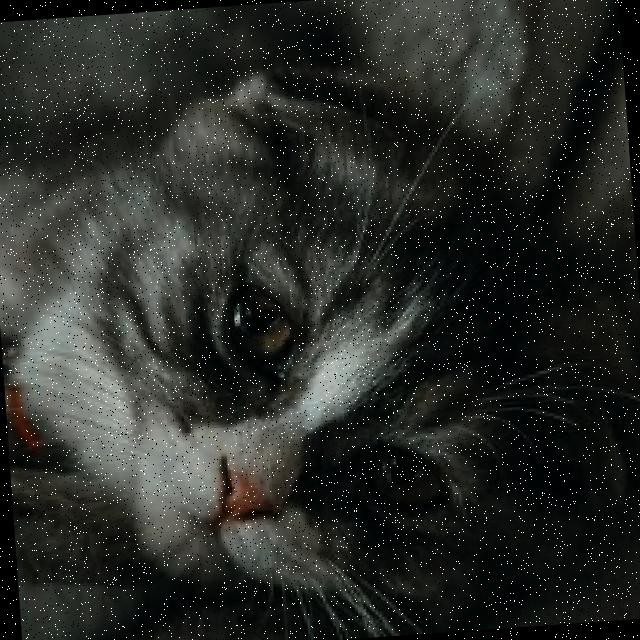Happy: (90, 145, 511, 634)
